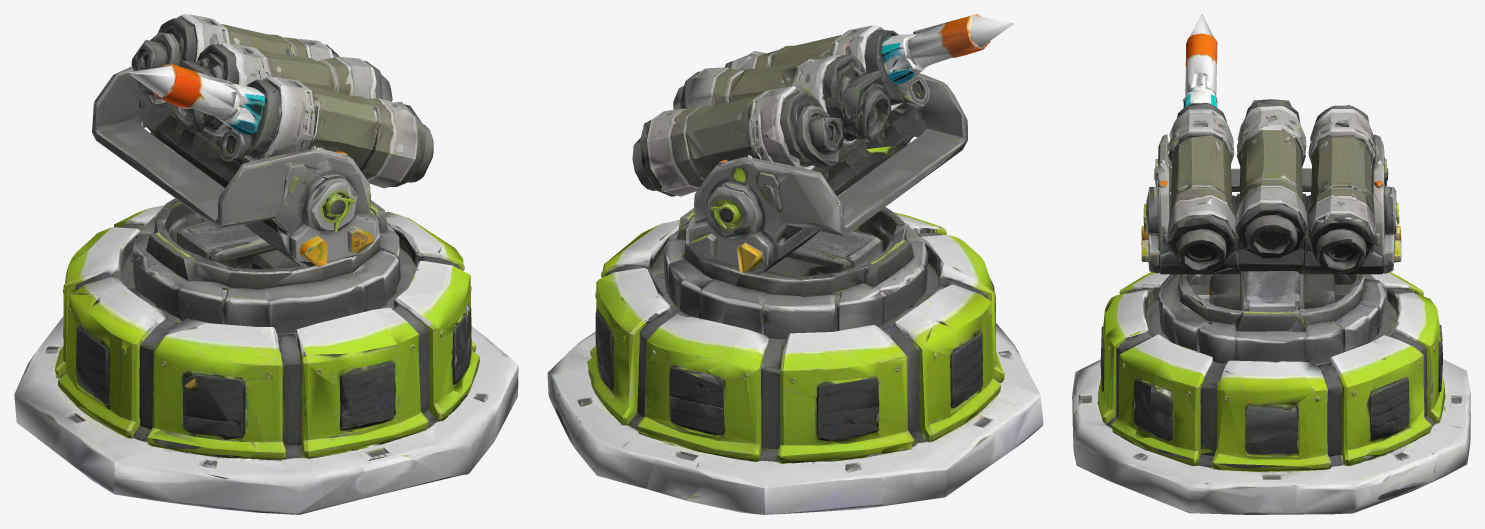
The model's file is turret-l.glb.
3 views of the same model, side by side, from view 1: azimuth 30°, elevation 25°; view 2: azimuth 150°, elevation 25°; view 3: azimuth 270°, elevation 25° (orthographic). The views are drawn at different scales.
Bounding box in the file's own units: 1.9 × 1.81 × 1.9.
1 material, 1 textured.
